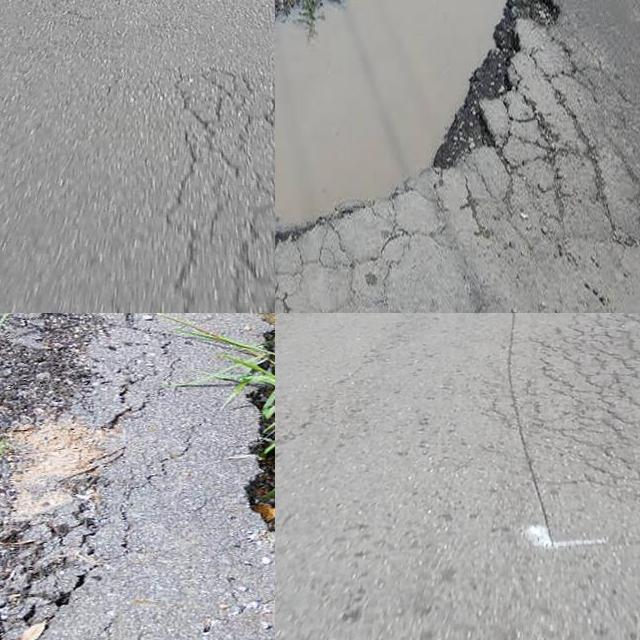Lubang: (275, 0, 531, 247)
Retak Buaya: (166, 73, 275, 313), (543, 313, 640, 504)
